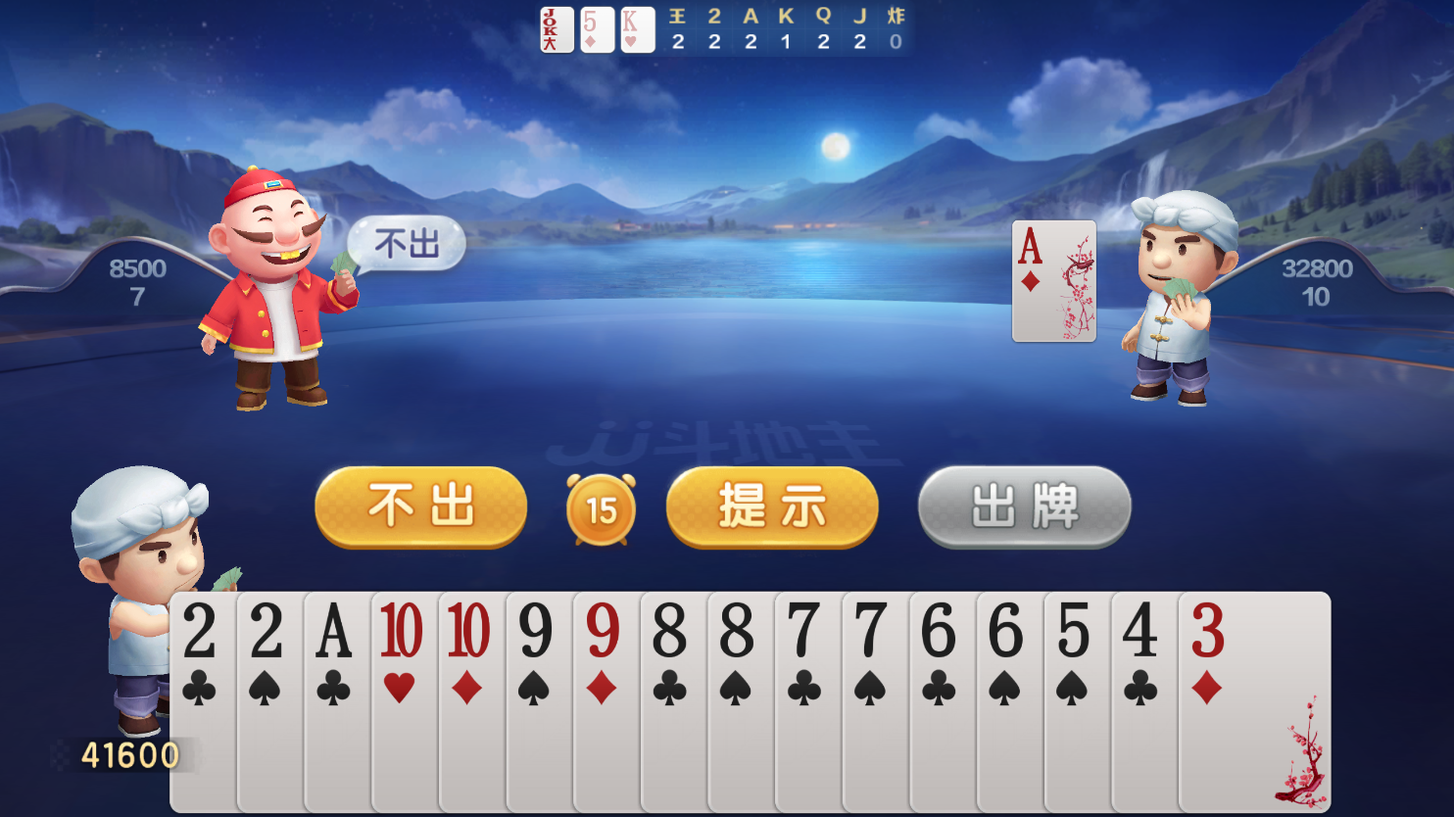A: (309, 598, 364, 667), (1011, 221, 1050, 269)
JOKER: (535, 2, 563, 43)
K: (618, 5, 643, 36)
eight: (645, 599, 699, 669), (711, 599, 765, 669)
five: (1049, 599, 1099, 668), (579, 5, 605, 37)
four: (1115, 598, 1170, 669)
nine: (509, 599, 563, 668), (577, 599, 630, 667)
seven: (779, 597, 830, 669), (846, 597, 897, 669)
six: (914, 598, 967, 668), (981, 599, 1034, 668)
ten: (373, 599, 429, 665), (442, 599, 497, 666)
three: (1183, 599, 1236, 666)
two: (241, 600, 295, 669), (175, 600, 227, 669)
